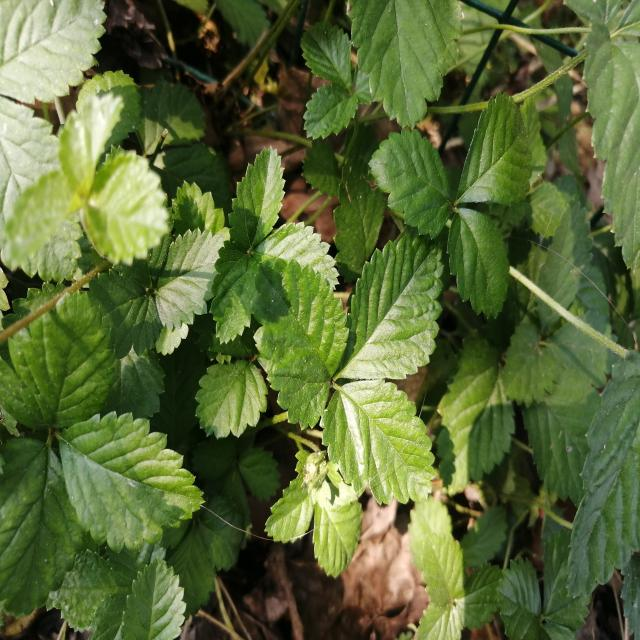Mock_strawberry: (258, 228, 456, 487)
